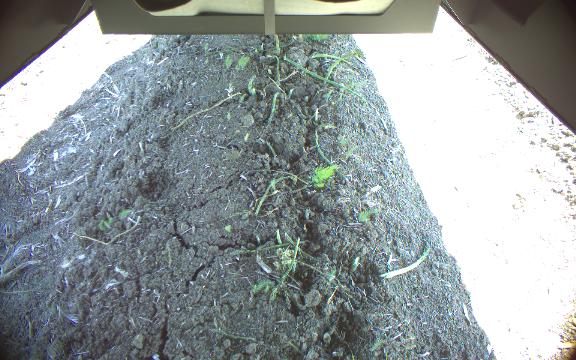aspa: (275, 35, 281, 57)
